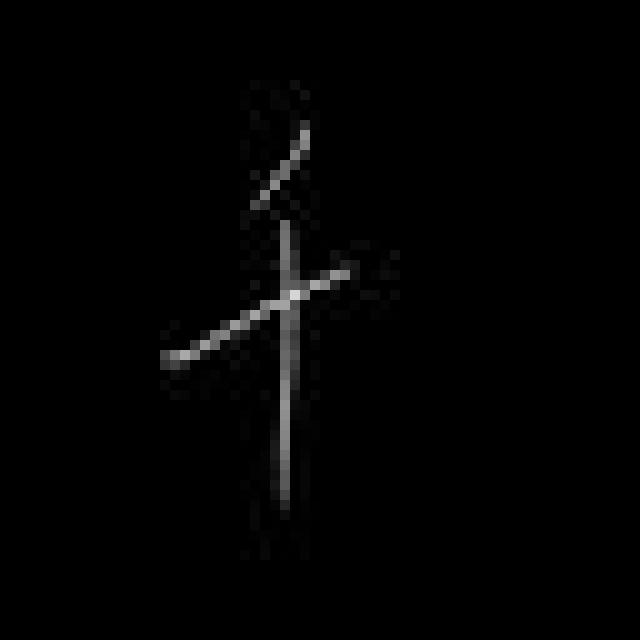1000 -a thousand-: (153, 119, 360, 511)
